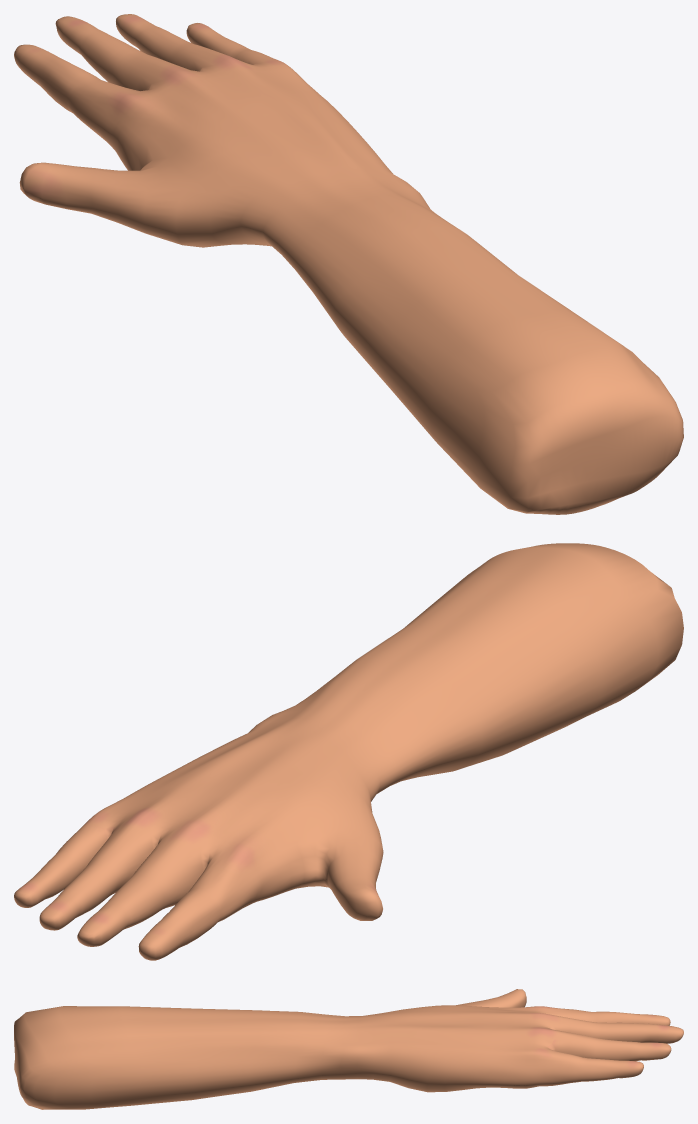
File: hand_v1.fbx
The picture shows the model from 3 angles, top to bottom: view 1: azimuth 30°, elevation 25°; view 2: azimuth 150°, elevation 25°; view 3: azimuth 270°, elevation 25°; orthographic projection. The views are drawn at different scales.
Visible parts, largest first — view 1: Hand; view 2: Hand; view 3: Hand.
Part boxes in pixels (<box>): Hand: <box>14,14,683,514</box>; Hand: <box>14,543,683,960</box>; Hand: <box>14,989,683,1109</box>.
Size of the model in its own units: 35.41 by 16.38 by 112.
Materials: 1 (1 with a texture image).
